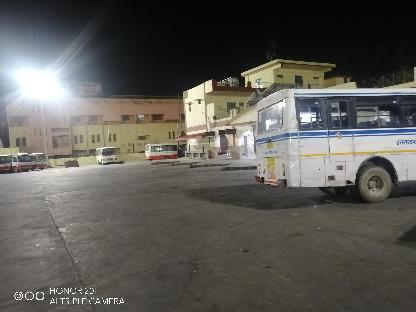bus: (254, 88, 416, 202), (146, 144, 176, 160), (12, 154, 32, 172), (96, 148, 118, 164)
